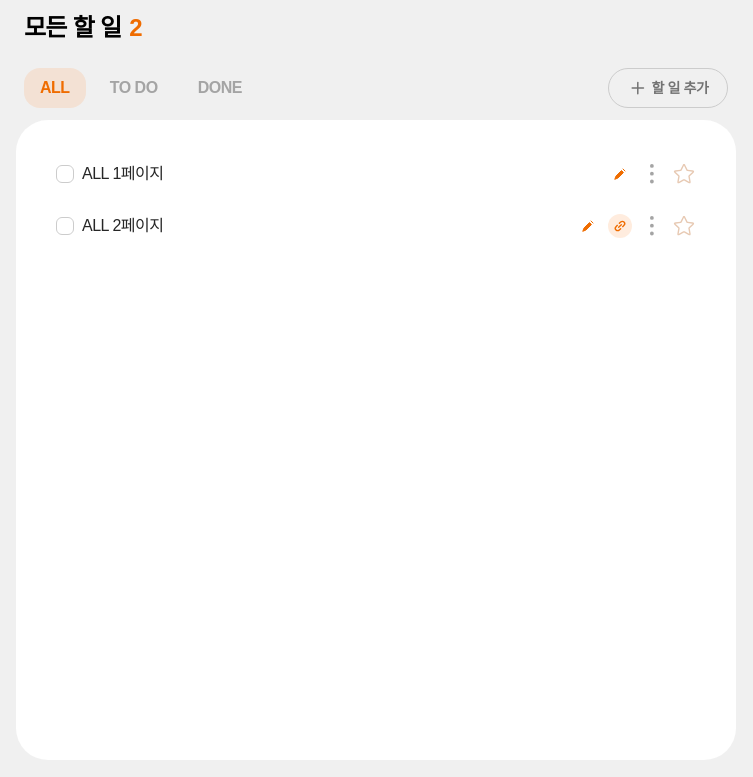
Test: TodosView › 이미 연 탭으로 돌아오면 이전 페이지를 복원하지 않고 첫 페이지부터 다시 조회한다
Expected: the button "ALL 1페이지" is shown, [82,162,600,186]
Expected: the button "ALL 2페이지" is shown, [82,214,568,238]
Click the tab "TO DO".
click(134, 88)  # box [94,68,174,108]
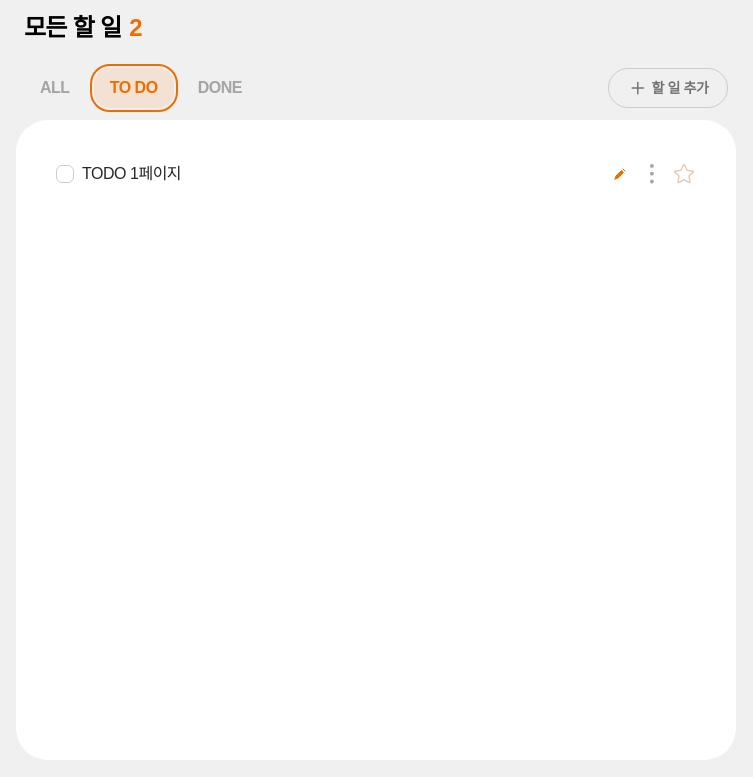
Now the button "TODO 1페이지" is shown, box [82,162,600,186]
Click the tab "ALL".
click(55, 88)  # box [24,68,86,108]
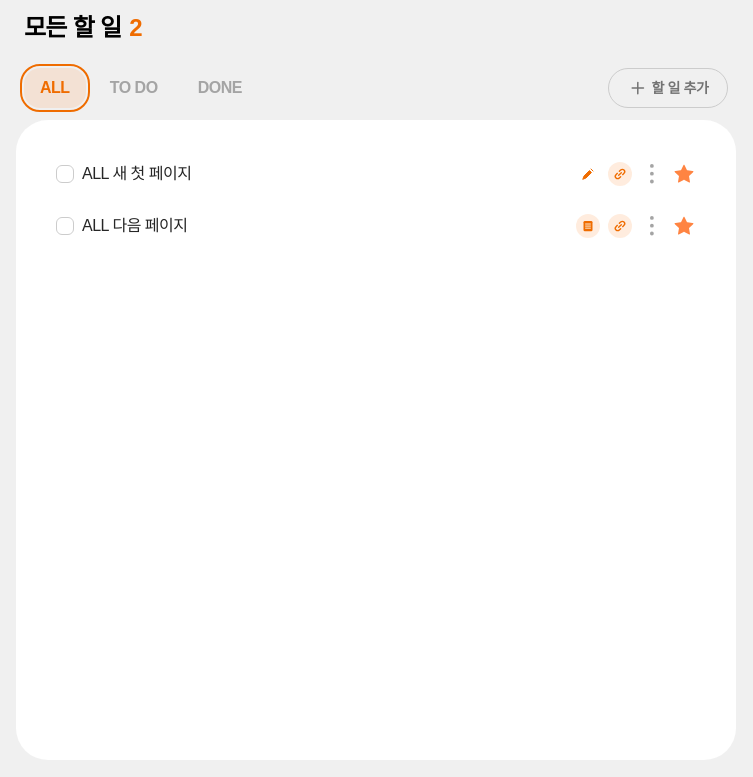
Now the button "ALL 새 첫 페이지" is shown, box [82,162,568,186]
Now the button "ALL 다음 페이지" is shown, box [82,214,568,238]
Now the button "TODO " is gone
